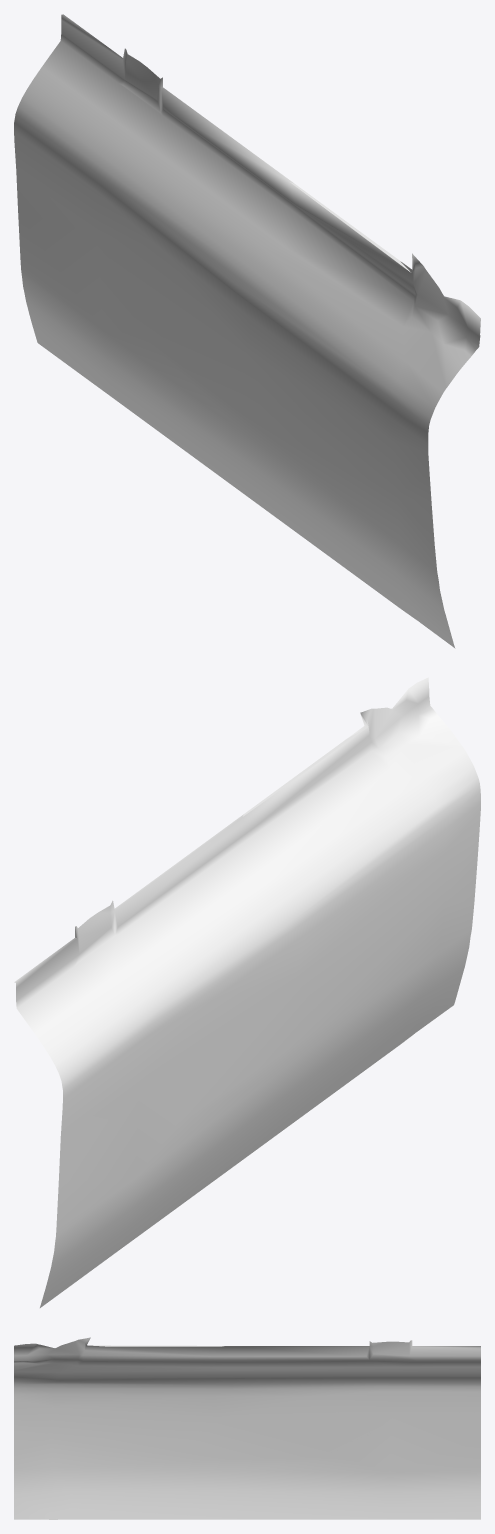
3 views of the same model, one above another, from view 1: azimuth 30°, elevation 25°; view 2: azimuth 150°, elevation 25°; view 3: azimuth 270°, elevation 25° (orthographic). The views are drawn at different scales.
Size of the model in its own units: 0.087 by 0.5232 by 1.17.
Materials: 1 (1 with a texture image).
